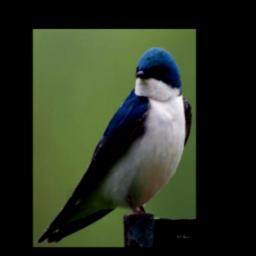Swallow: (36, 45, 192, 246)
